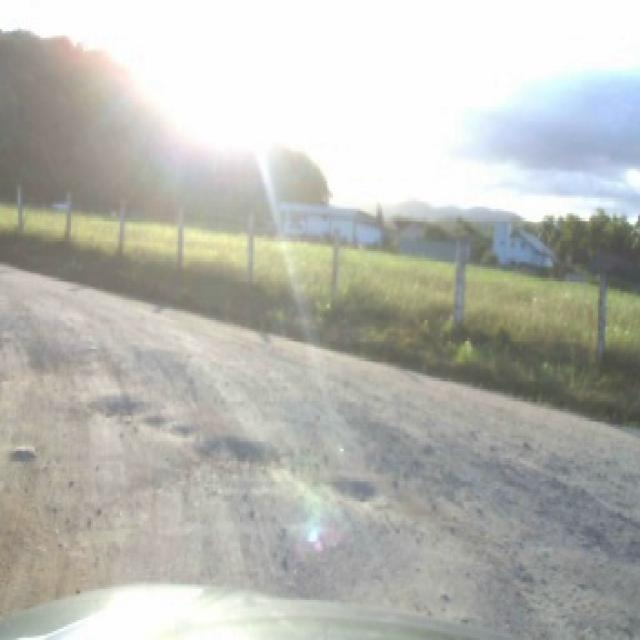Poth-hole: (198, 434, 271, 464), (85, 389, 144, 418), (320, 473, 378, 502), (8, 442, 36, 458), (169, 422, 193, 436), (142, 414, 166, 424)
